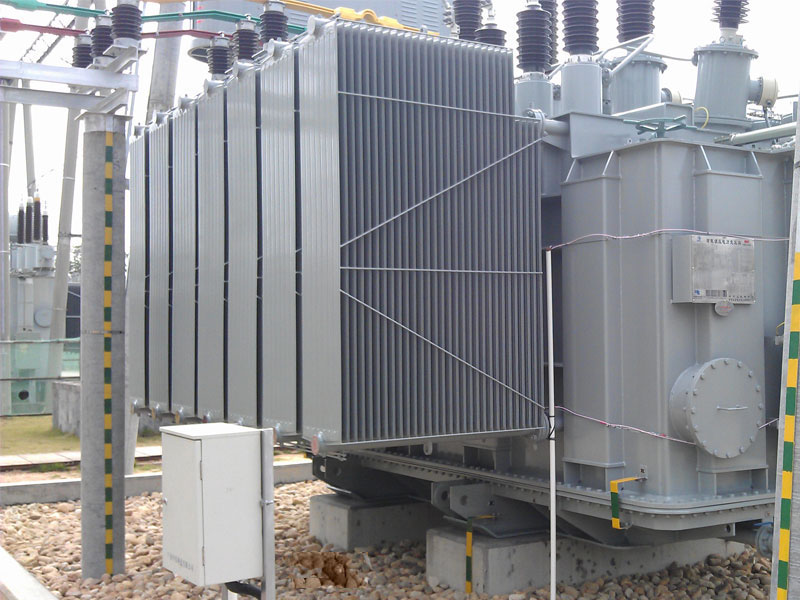oil: (289, 543, 366, 593)
